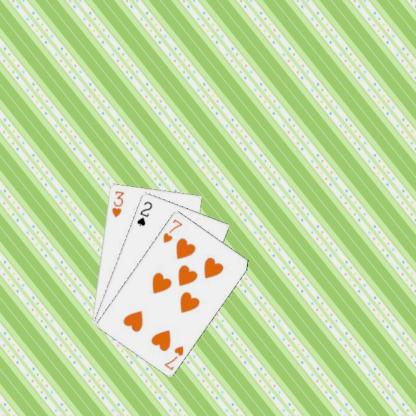2S: (134, 199, 154, 227)
3H: (108, 188, 126, 219)
7H: (161, 342, 185, 372), (160, 216, 184, 244)
